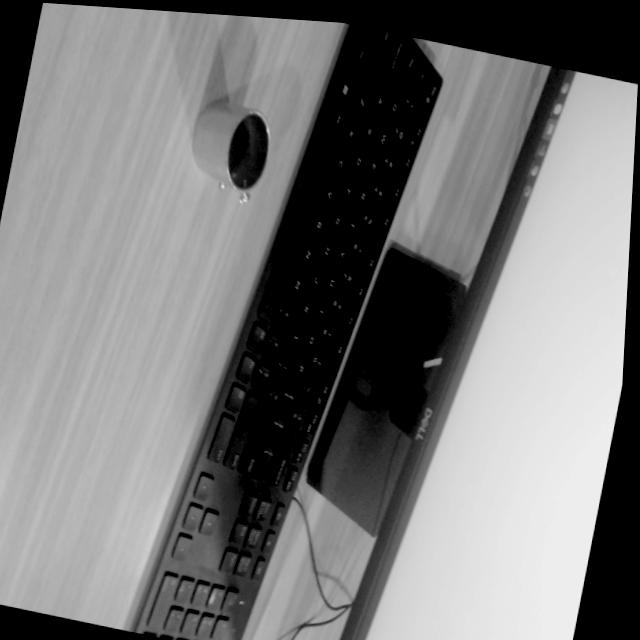Co_Lon: (178, 95, 279, 205)
